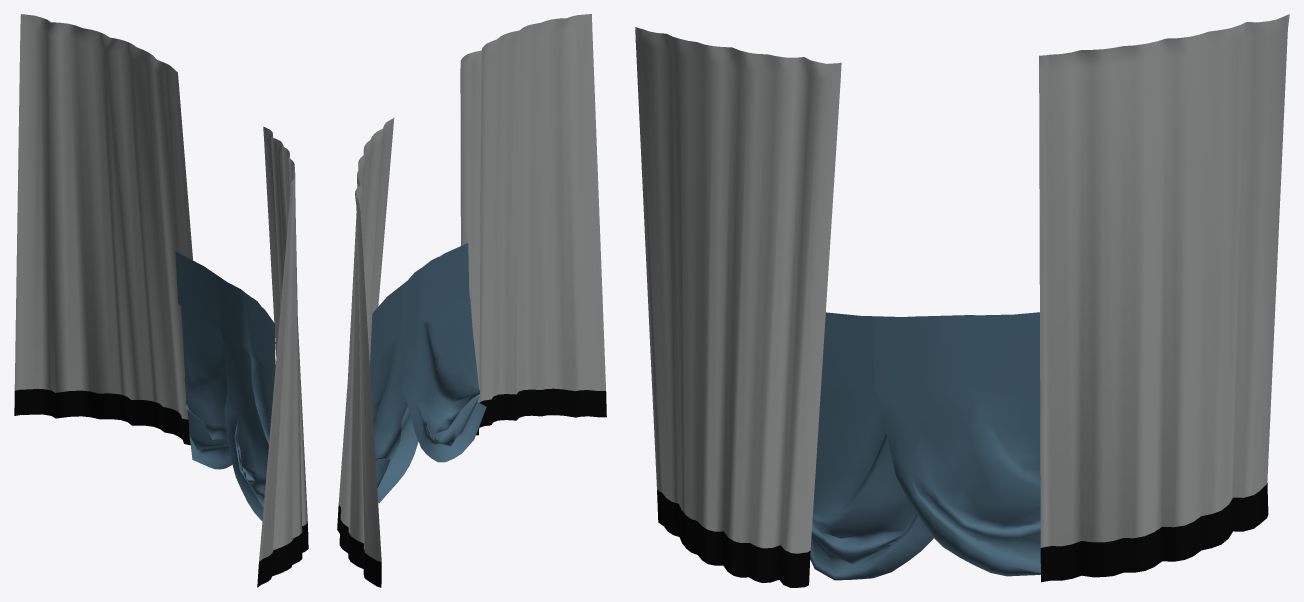
3 renders of one model, left to right at view 1: azimuth 30°, elevation 25°; view 2: azimuth 150°, elevation 25°; view 3: azimuth 270°, elevation 25°, orthographic. The views are drawn at different scales.
Parts seen in each view (by area): view 1: G:\FFXIV-MapTools\exports\s1f3\bg\ffxiv\sea_s1\fld\s1f3\bgpa (×3); view 2: G:\FFXIV-MapTools\exports\s1f3\bg\ffxiv\sea_s1\fld\s1f3\bgpa (×3); view 3: G:\FFXIV-MapTools\exports\s1f3\bg\ffxiv\sea_s1\fld\s1f3\bgpa (×3).
Part boxes in pixels (bbox=[...]): G:\FFXIV-MapTools\exports\s1f3\bg\ffxiv\sea_s1\fld\s1f3\bgpa (×3): bbox=[14, 14, 308, 587]; G:\FFXIV-MapTools\exports\s1f3\bg\ffxiv\sea_s1\fld\s1f3\bgpa (×3): bbox=[337, 14, 606, 587]; G:\FFXIV-MapTools\exports\s1f3\bg\ffxiv\sea_s1\fld\s1f3\bgpa (×3): bbox=[635, 14, 1289, 587].
Size of the model in its own units: 1.78 by 6.09 by 6.93.
